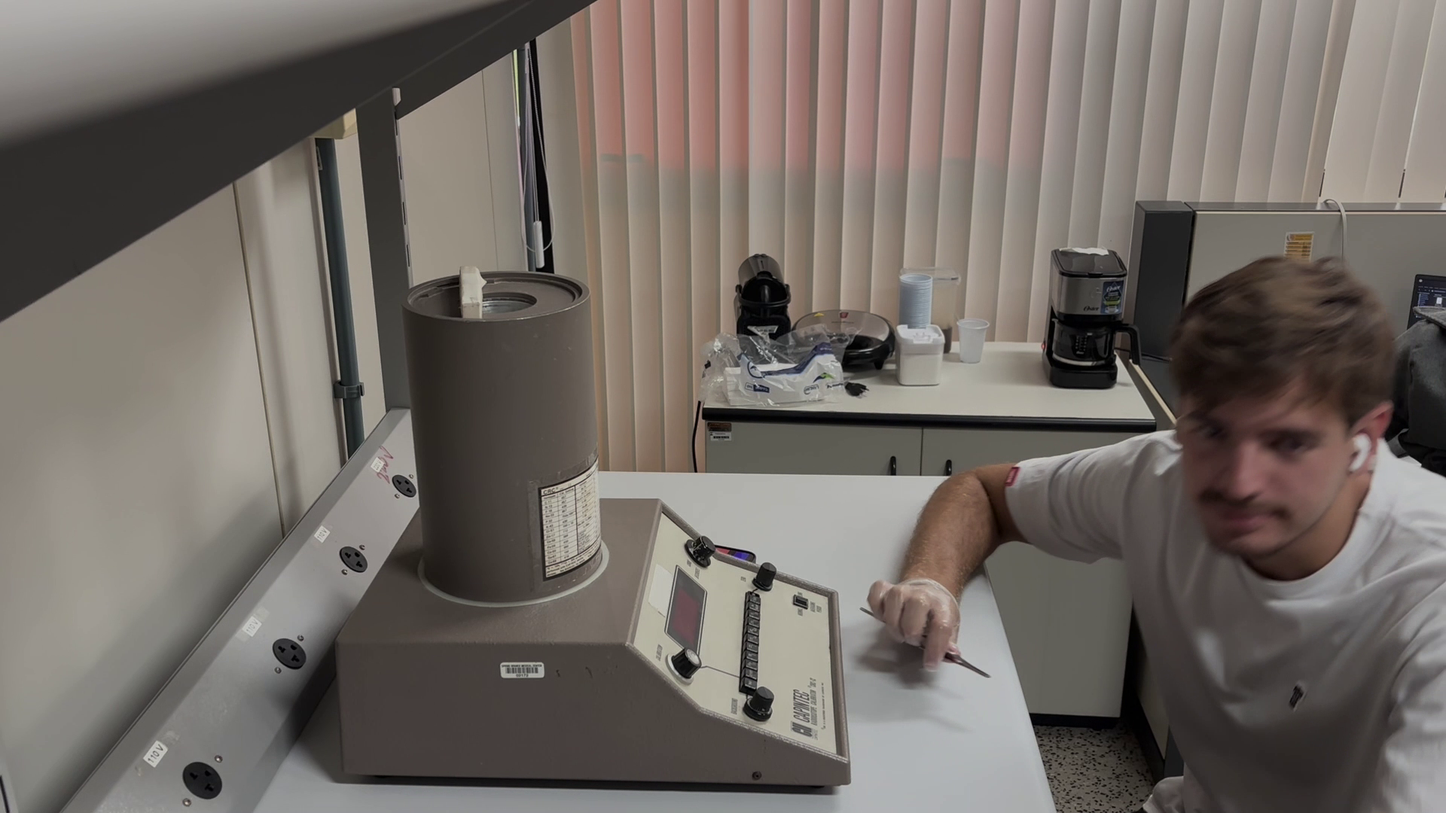Ativimetro: (398, 267, 609, 606)
Com_Luva: (867, 568, 963, 678)
